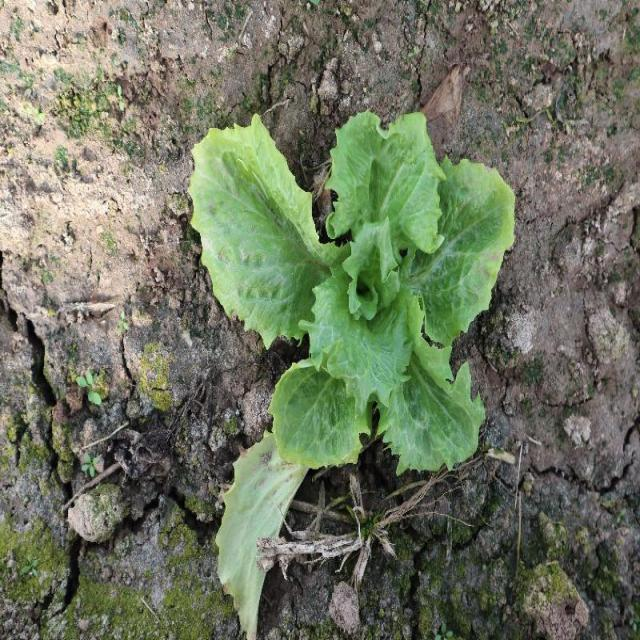crop: (191, 108, 517, 476)
